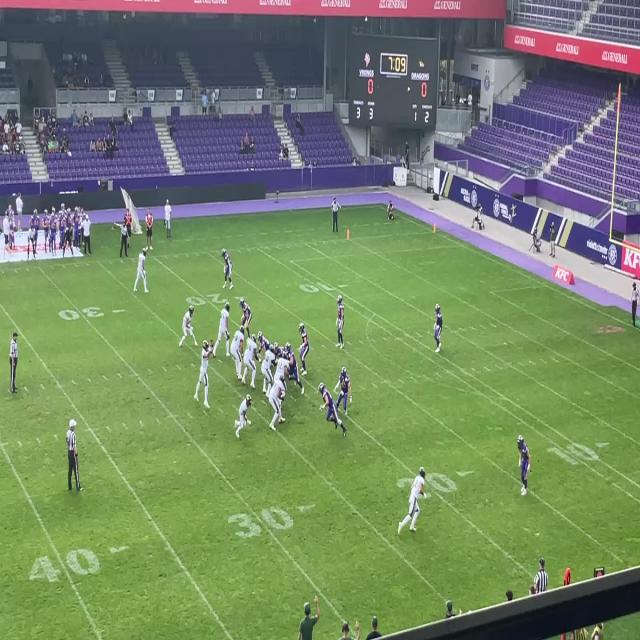1: (541, 443, 587, 470)
3: (225, 507, 265, 545)
4: (26, 551, 66, 593)
american-football-players: (398, 466, 428, 537), (318, 383, 348, 437), (194, 339, 214, 412), (283, 334, 306, 395), (210, 300, 232, 359), (241, 335, 262, 393), (284, 344, 306, 396), (270, 377, 288, 434), (334, 366, 354, 416), (517, 434, 532, 499), (234, 395, 254, 440), (296, 324, 311, 379), (334, 293, 348, 351), (231, 326, 245, 382), (180, 306, 197, 349), (134, 249, 148, 295), (262, 344, 274, 397), (237, 297, 253, 336), (432, 304, 444, 354), (274, 355, 290, 388), (220, 248, 233, 288), (256, 325, 270, 355), (274, 334, 284, 362), (269, 338, 274, 356)
